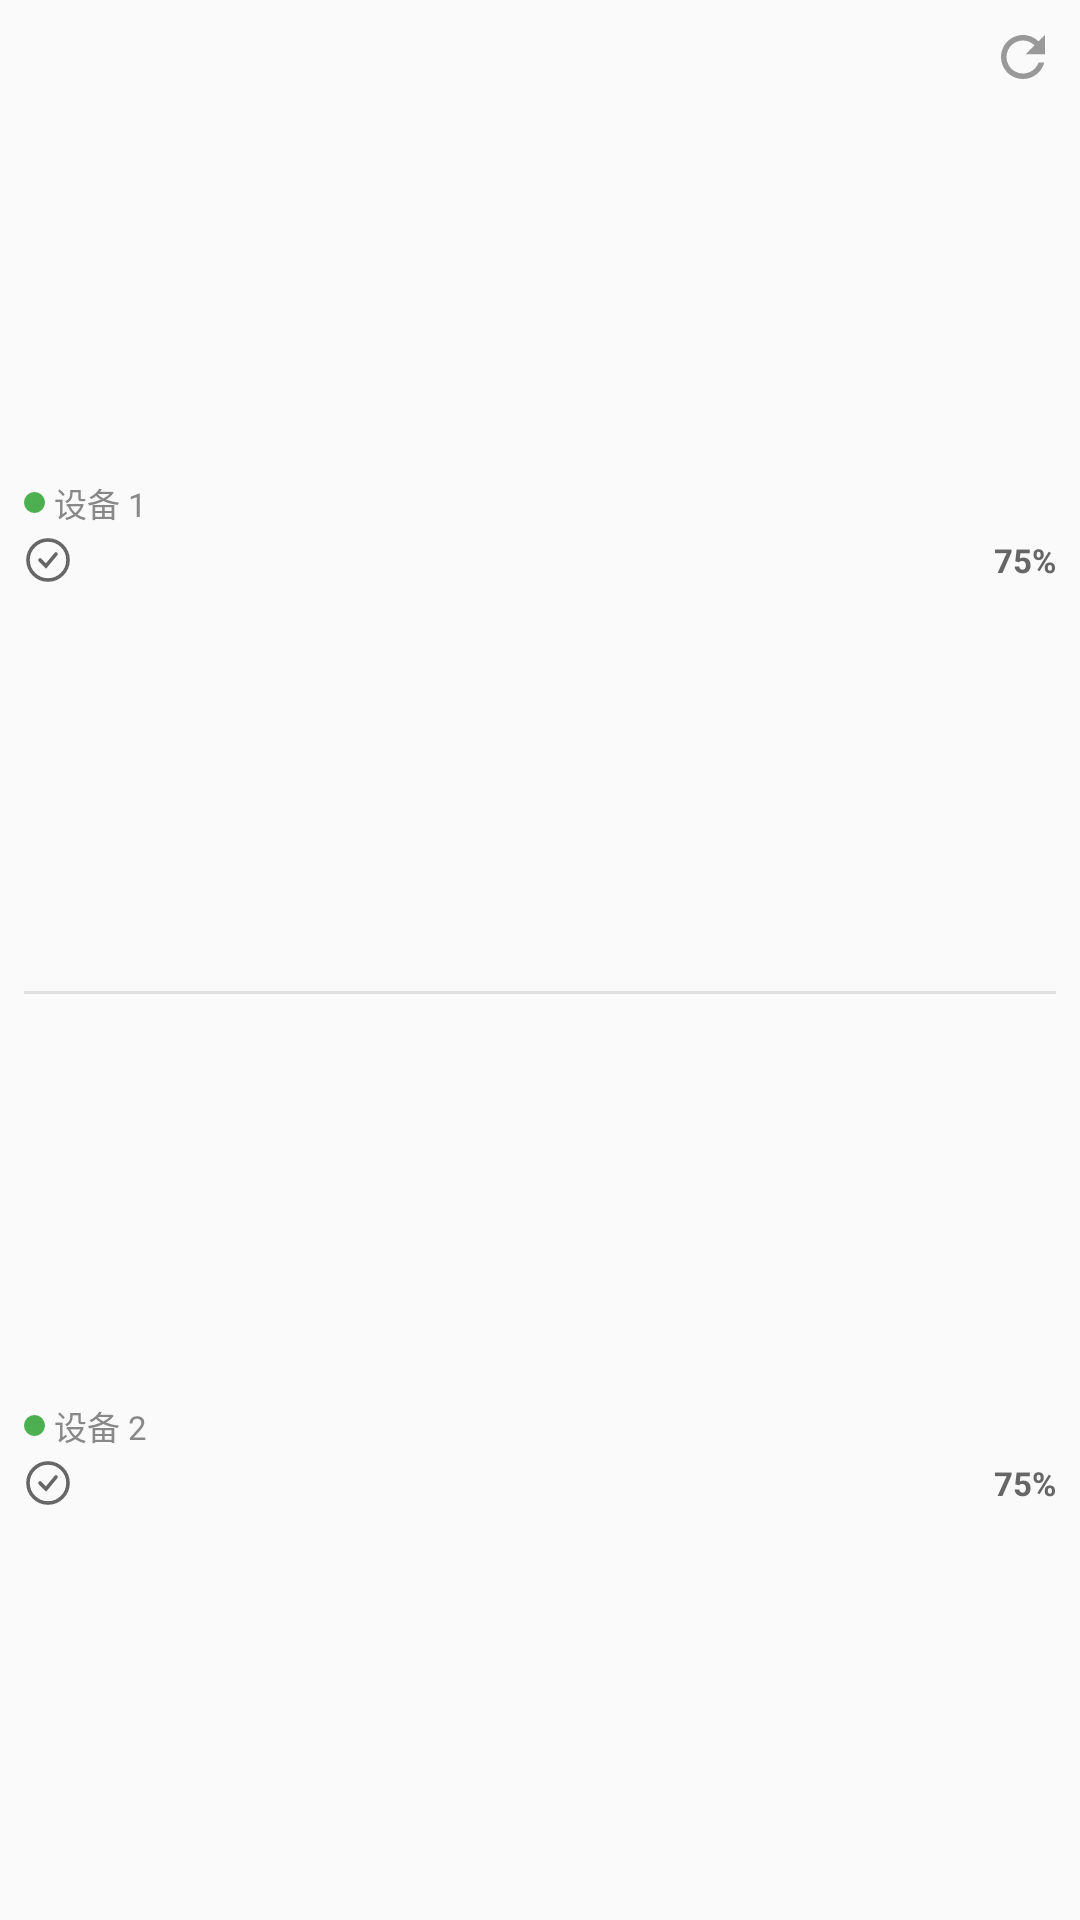

Point at icon controls on the screen. Image size 1080 × 1920, points as [x,y].
刷新: [1023,57]
